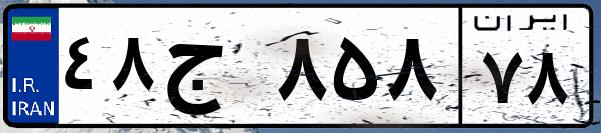4: (57, 26, 110, 100)
5: (330, 28, 385, 110)
7: (475, 38, 525, 113)
8: (270, 28, 330, 110), (385, 28, 445, 110), (525, 38, 570, 115), (110, 28, 158, 98)
ج: (158, 20, 270, 120)
